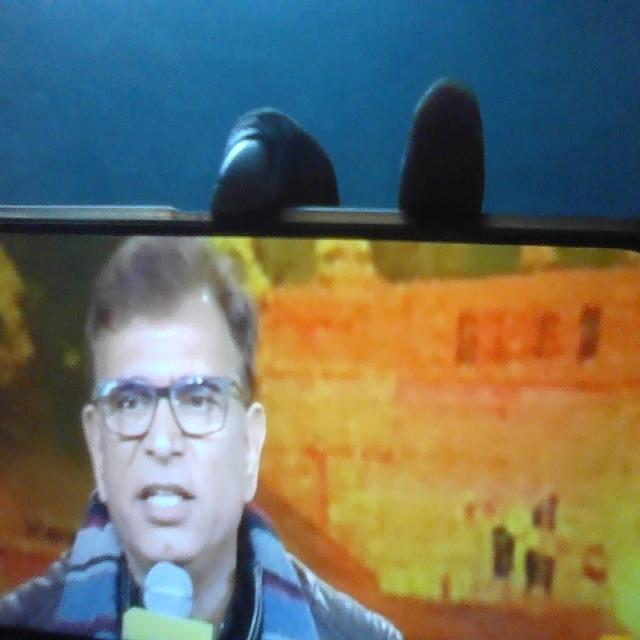fake: (76, 223, 271, 592)
